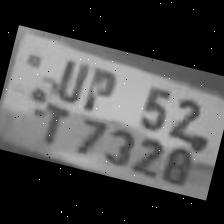2: (161, 88, 206, 143), (125, 127, 167, 178)
3: (98, 116, 138, 167)
5: (131, 78, 174, 132)
7: (64, 106, 110, 158)
8: (156, 136, 196, 188)
P: (78, 60, 122, 113)
T: (31, 96, 77, 148)
U: (44, 50, 92, 104)
